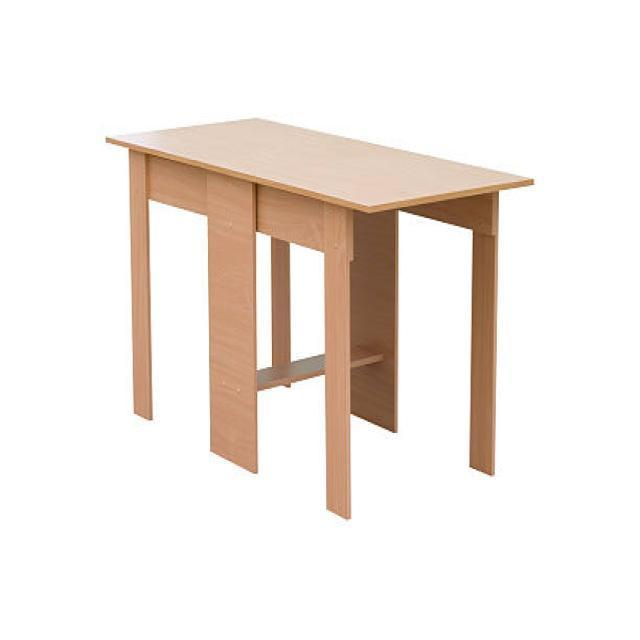table: (104, 114, 534, 520)
